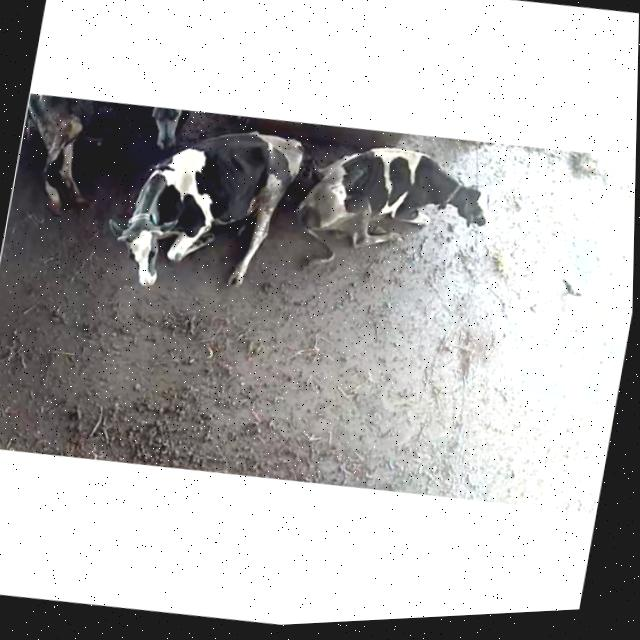lay: (94, 104, 312, 315), (287, 113, 509, 301), (12, 85, 183, 215)
